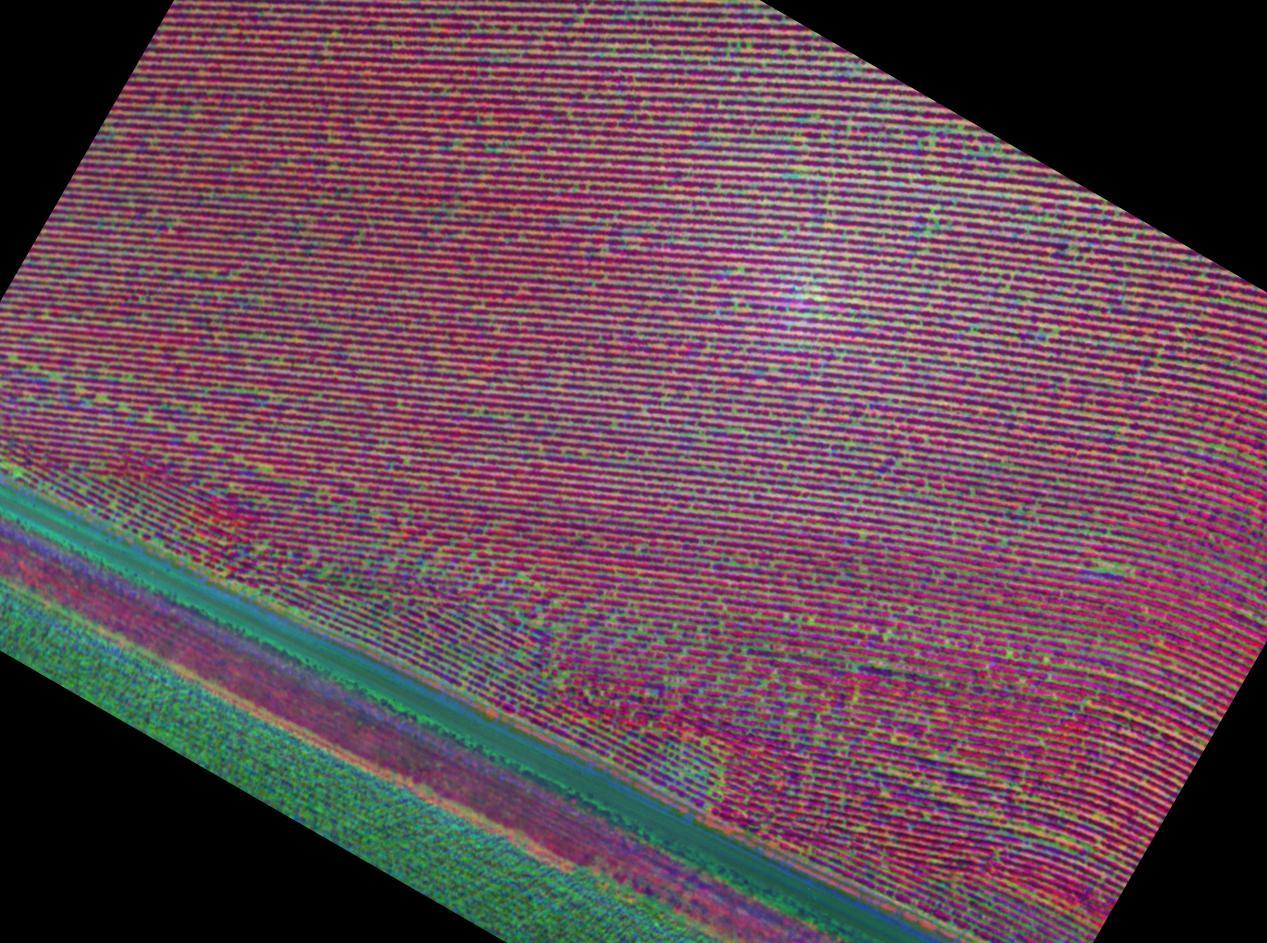dc: (932, 751, 942, 760), (1101, 562, 1110, 571), (1121, 565, 1130, 574), (951, 794, 960, 802), (260, 464, 269, 471), (1083, 697, 1090, 706), (883, 862, 890, 871), (882, 788, 888, 798), (1095, 810, 1101, 820), (1024, 823, 1031, 830), (953, 876, 958, 885)
